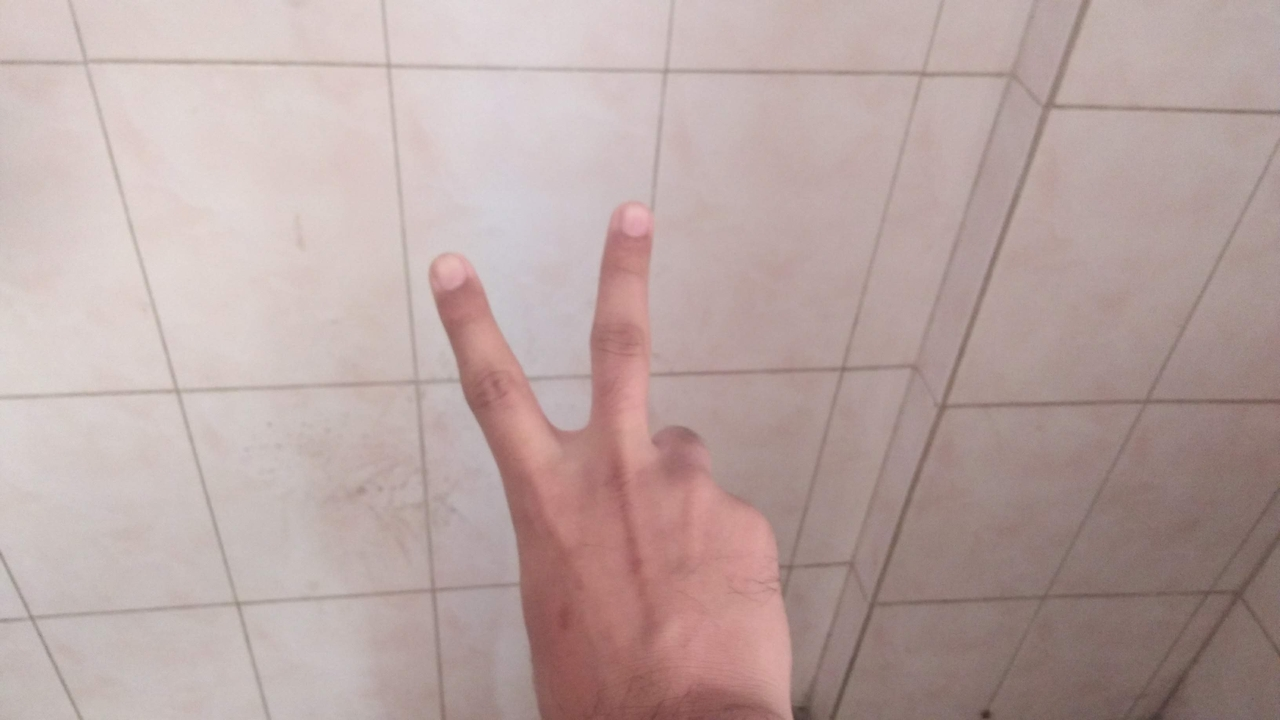fingertip: (418, 246, 484, 306), (594, 190, 656, 248)
